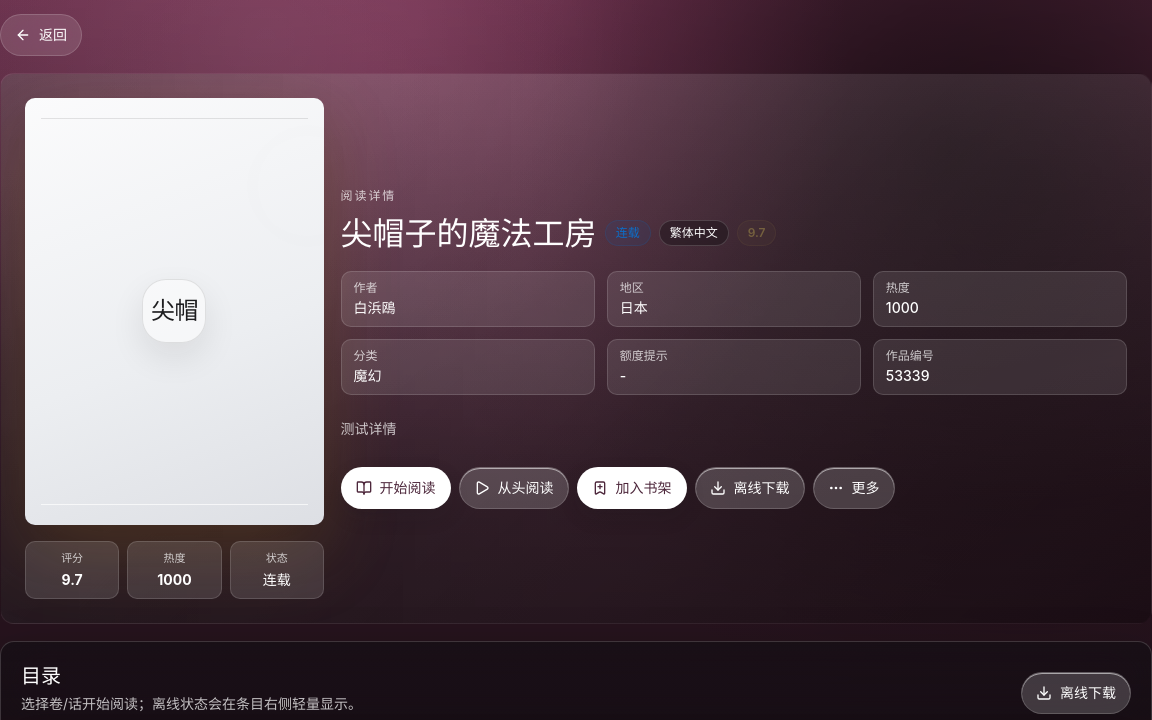
Test: Detail reader entry › does not enqueue an empty explicit detail download task set
Expected: the heading "尖帽子的魔法工房" is shown, [341,216,597,251]
Click the button "离线下载" below "53339": (750, 488) [695,467,805,509]
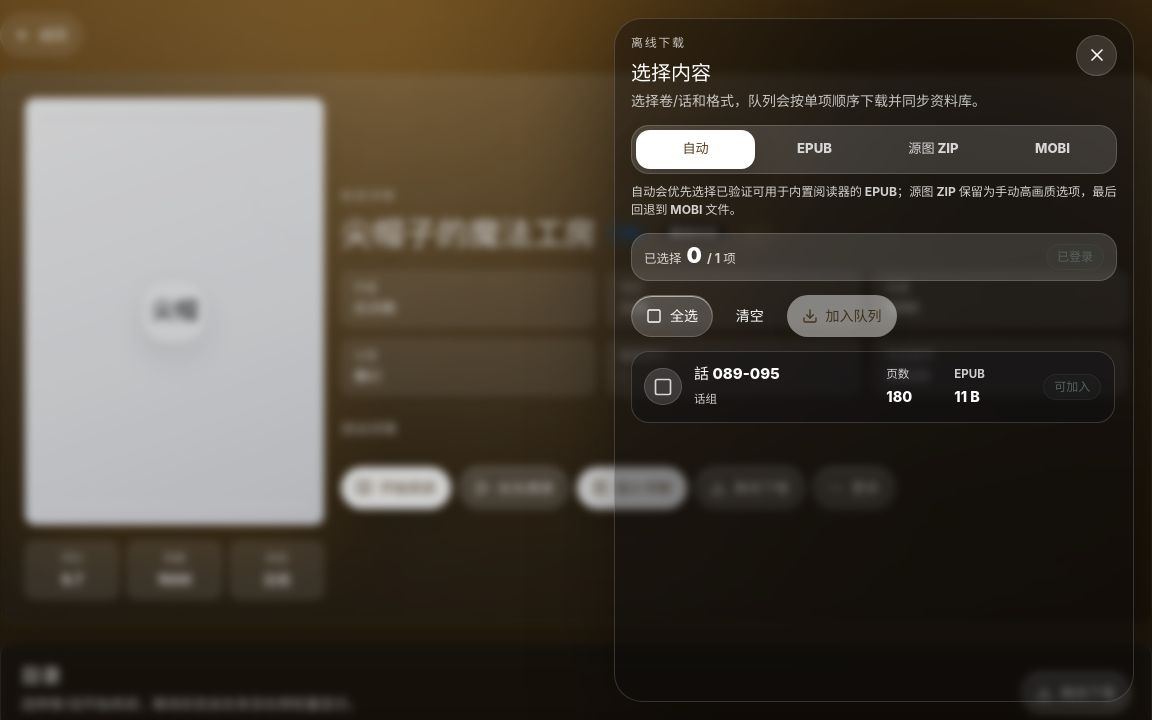
Click the checkbox named "选择 話 089-095": (663, 387) [644,368,682,405]
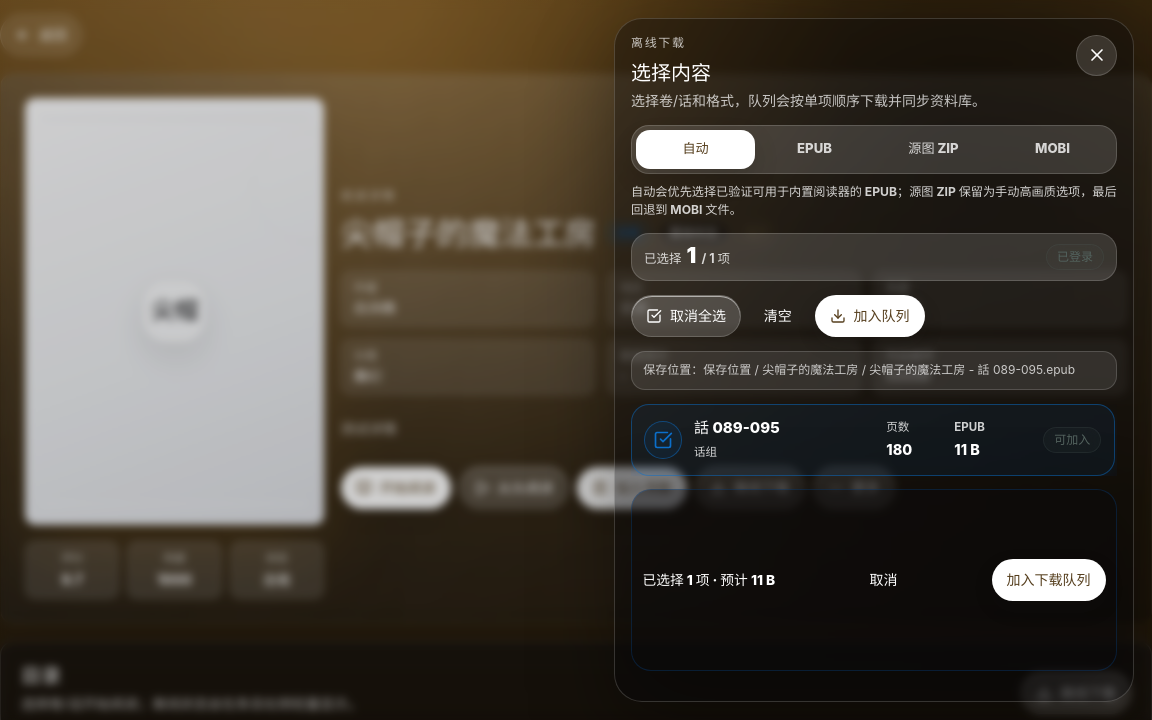
Click the button "加入队列": (870, 316) [815,295,925,337]
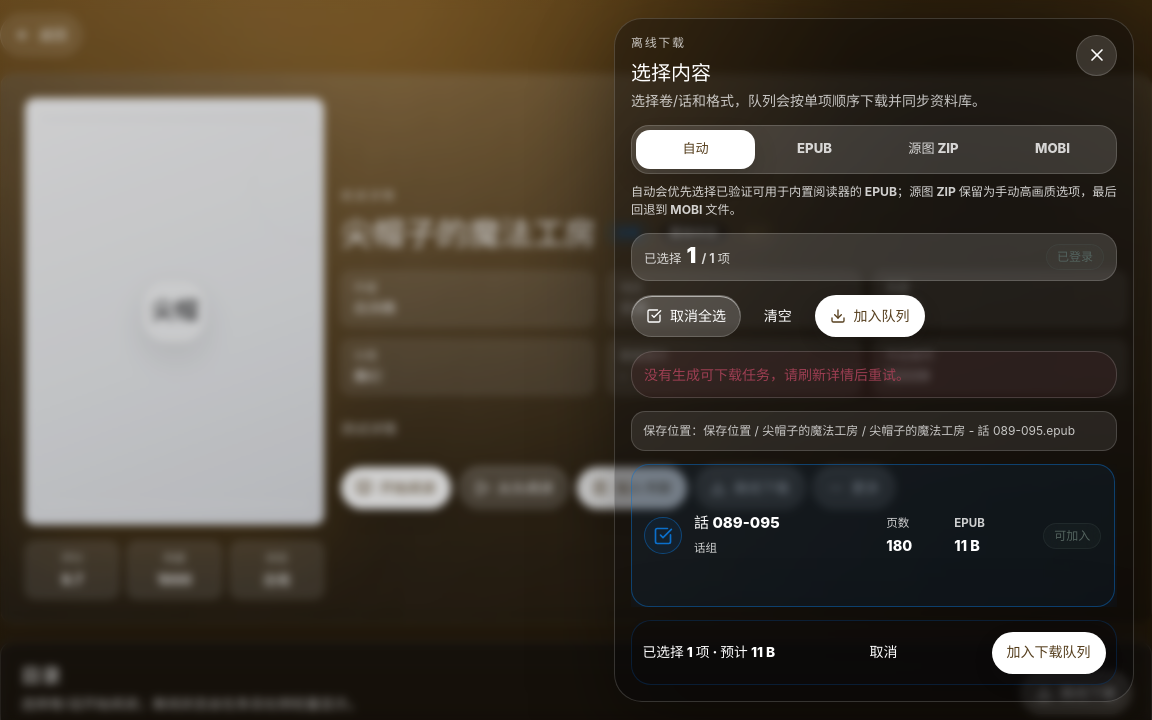
Expected: the text "没有生成可下载任务，请刷新详情后重试。" is shown, [631,351,1117,398]
